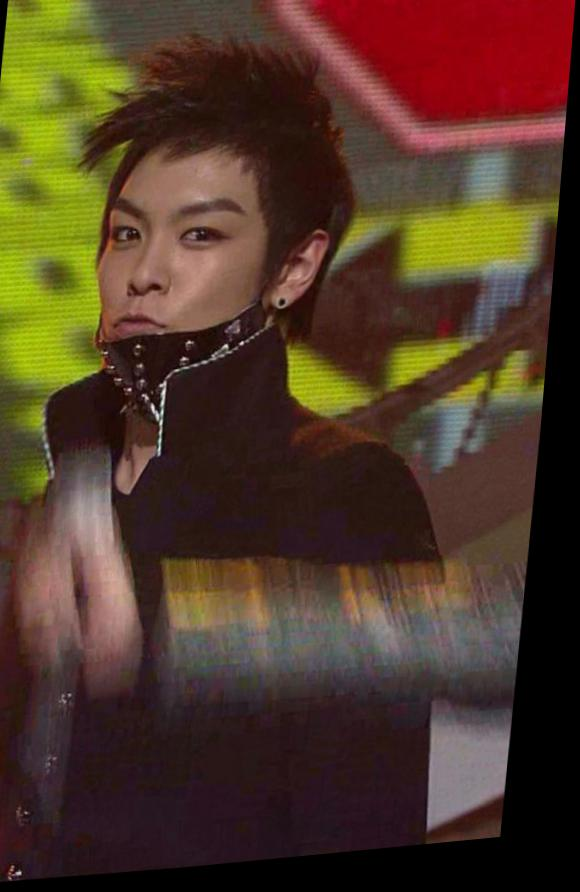WRONG: (86, 179, 286, 401)
